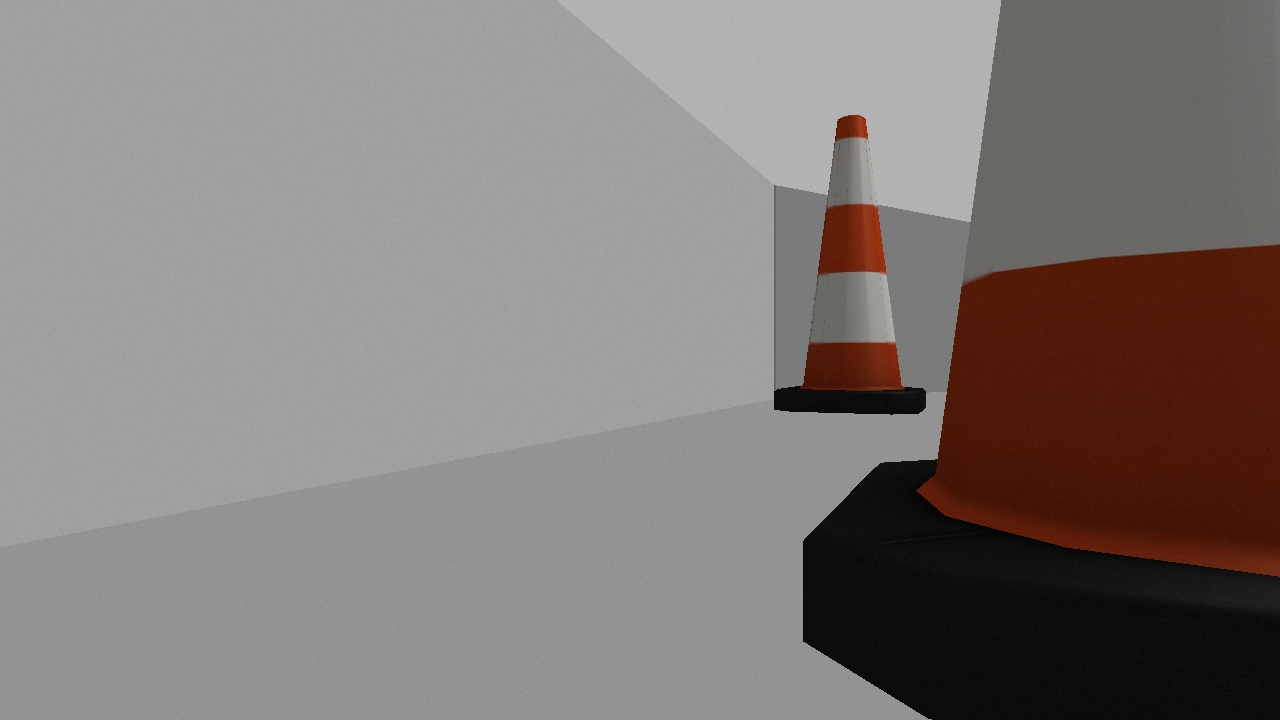barricade: (769, 114, 936, 430)
